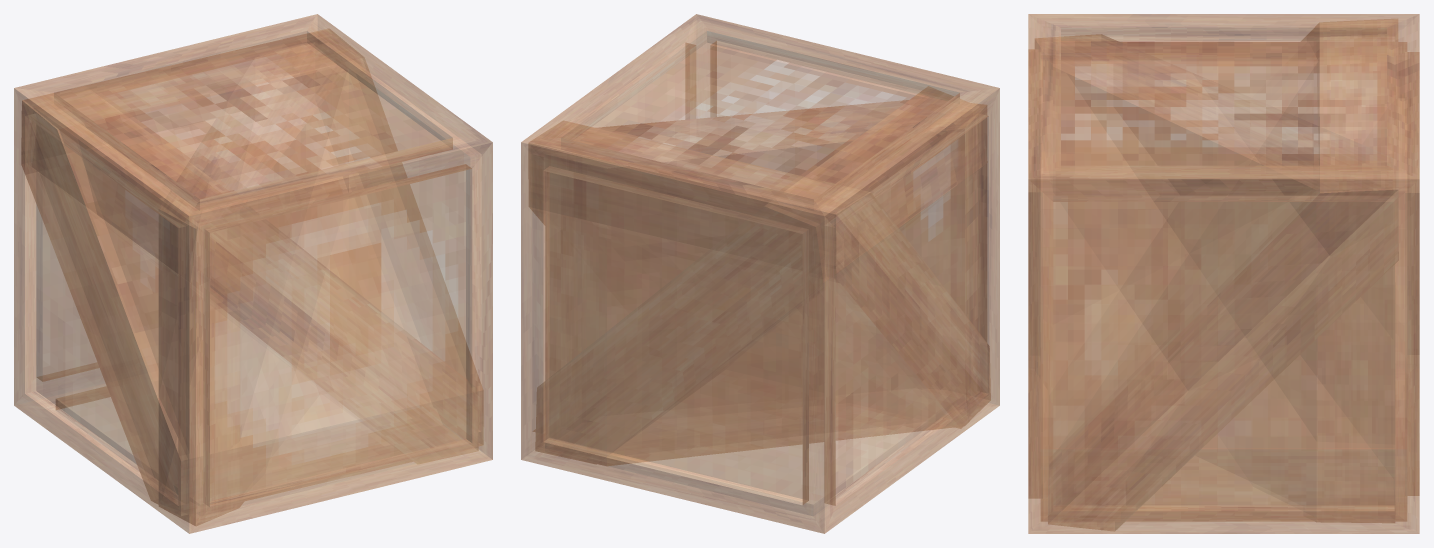
Rendered from Cajarota.gltf.
The picture shows the model from 3 angles, left to right: view 1: azimuth 30°, elevation 25°; view 2: azimuth 150°, elevation 25°; view 3: azimuth 270°, elevation 25°; orthographic projection. The views are drawn at different scales.
Visible parts, largest first — view 1: Cube.003, Cube.001, Cube.002, Cube.006, Cube.004, Cube.005; view 2: Cube.003, Cube.002, Cube.001, Cube.006, Cube.005, Cube.004; view 3: Cube.001, Cube.002, Cube.003, Cube.004, Cube.006, Cube.005.
Boxes of the visible parts, x1,y1,x2,y2 form: Cube.003: (16,26,471,533); Cube.001: (14,14,492,533); Cube.002: (14,88,492,533); Cube.006: (222,14,492,502); Cube.004: (52,25,452,523); Cube.005: (336,235,482,457); Cube.003: (561,25,998,523); Cube.002: (521,15,999,533); Cube.001: (521,15,999,533); Cube.006: (521,14,742,468); Cube.005: (521,278,623,468); Cube.004: (545,143,800,298); Cube.001: (1028,14,1419,533); Cube.002: (1028,195,1419,533); Cube.003: (1028,14,1419,512); Cube.004: (1028,34,1419,512); Cube.006: (1028,154,1419,532); Cube.005: (1041,352,1406,510).
Bounding box in the file's own units: 2.03 × 2 × 2.
Materials: 1 (1 with a texture image).
